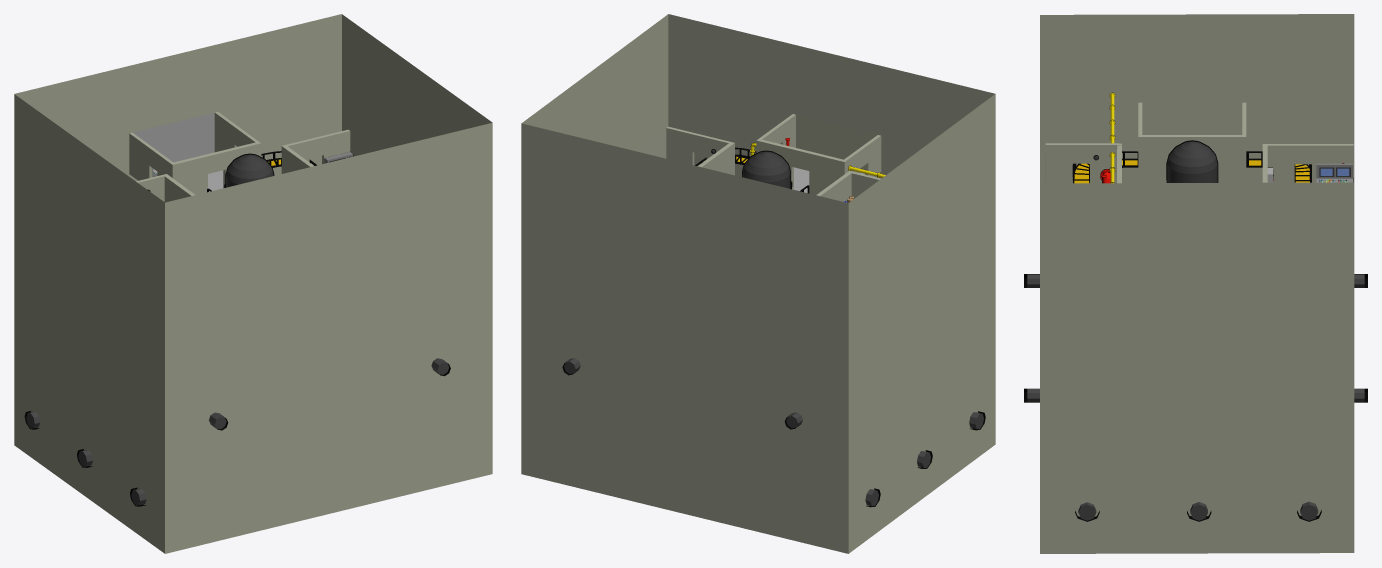
Rendered from Level 1.fbx.
3 views of the same model, side by side, from view 1: azimuth 30°, elevation 25°; view 2: azimuth 150°, elevation 25°; view 3: azimuth 270°, elevation 25° (orthographic). The views are drawn at different scales.
Visible parts, largest first — view 1: Base Reator, Sala Nuclear.003, Sala Nuclear.001, Canos, Cylinder.006, Sala Nuclear.002; view 2: Base Reator, Sala Nuclear.004, Sala Nuclear.001, Cylinder.006, Canos, Sala Nuclear.002; view 3: Base Reator, Sala Nuclear.002, Sala Nuclear.004, Sala Nuclear.003, Cylinder.006, Canos, Base.001.
Boxes of the visible parts, left/top/right/bottom form: Base Reator: left=14, top=14, right=492, bottom=553; Sala Nuclear.003: left=129, top=111, right=261, bottom=194; Sala Nuclear.001: left=281, top=129, right=376, bottom=173; Canos: left=24, top=358, right=450, bottom=506; Cylinder.006: left=225, top=153, right=274, bottom=187; Sala Nuclear.002: left=136, top=174, right=195, bottom=202; Base Reator: left=521, top=14, right=995, bottom=553; Sala Nuclear.004: left=756, top=114, right=881, bottom=194; Sala Nuclear.001: left=635, top=126, right=734, bottom=175; Cylinder.006: left=742, top=150, right=790, bottom=188; Canos: left=562, top=358, right=985, bottom=507; Sala Nuclear.002: left=816, top=171, right=880, bottom=201; Base Reator: left=1040, top=14, right=1354, bottom=553; Sala Nuclear.002: left=1138, top=102, right=1246, bottom=180; Sala Nuclear.004: left=1045, top=143, right=1121, bottom=183; Sala Nuclear.003: left=1262, top=144, right=1353, bottom=182; Cylinder.006: left=1166, top=140, right=1218, bottom=182; Canos: left=1024, top=274, right=1367, bottom=521; Base.001: left=1316, top=163, right=1353, bottom=182.
Size of the model in its own units: 7147 by 7061 by 5936.
120 materials, 2 textured.
